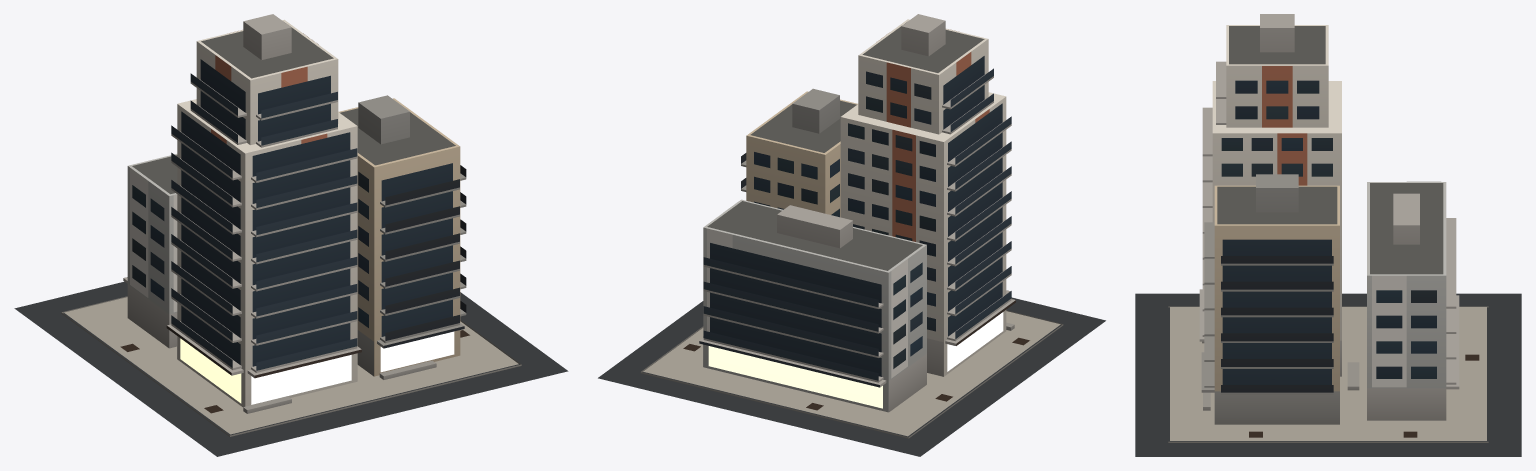
Rendered from modulo_A_lod1.glb.
3 renders of one model, left to right at view 1: azimuth 30°, elevation 25°; view 2: azimuth 150°, elevation 25°; view 3: azimuth 270°, elevation 25°, orthographic. The views are drawn at different scales.
Visible parts, largest first — view 1: modulo_A_lod1; view 2: modulo_A_lod1; view 3: modulo_A_lod1.
Part boxes in pixels (<box>): modulo_A_lod1: <box>14,14,568,456</box>; modulo_A_lod1: <box>598,14,1105,456</box>; modulo_A_lod1: <box>1135,14,1521,456</box>.
Size of the model in its own units: 40 by 37.81 by 40.
